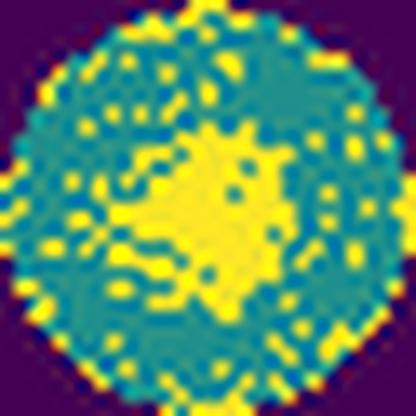Center: (94, 122, 297, 324)
